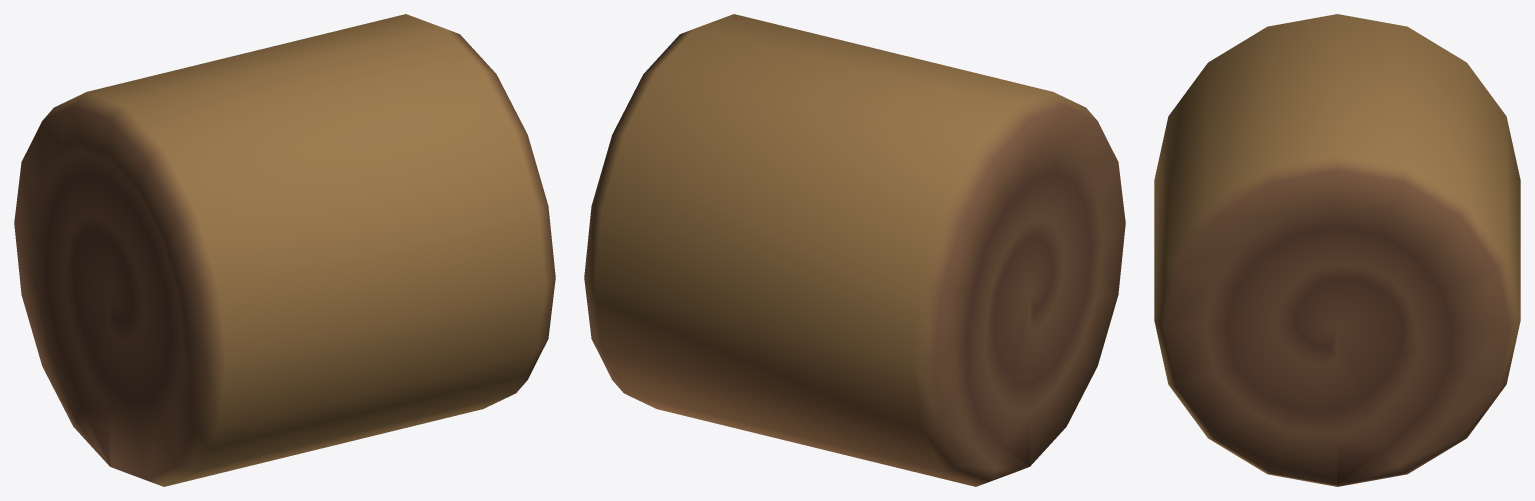
File: furnishings-outdoor-roundhaybale_v1.glb
3 views of the same model, side by side, from view 1: azimuth 30°, elevation 25°; view 2: azimuth 150°, elevation 25°; view 3: azimuth 270°, elevation 25° (orthographic). The views are drawn at different scales.
Parts seen in each view (by area): view 1: RoundHayBale.001; view 2: RoundHayBale.001; view 3: RoundHayBale.001.
Part boxes in pixels (left/top/right/bottom): RoundHayBale.001: left=14, top=14, right=555, bottom=486; RoundHayBale.001: left=584, top=14, right=1125, bottom=486; RoundHayBale.001: left=1154, top=14, right=1520, bottom=486.
Size of the model in its own units: 3.45 by 3.45 by 3.45.
